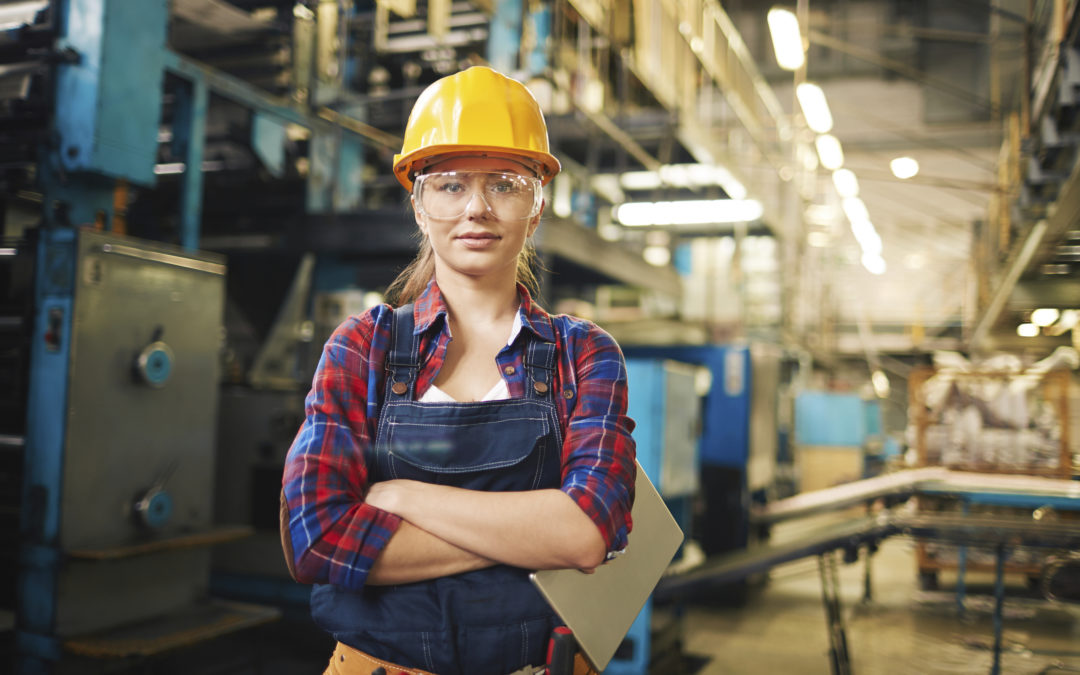Person_wearing_helmet: (382, 63, 569, 214)
